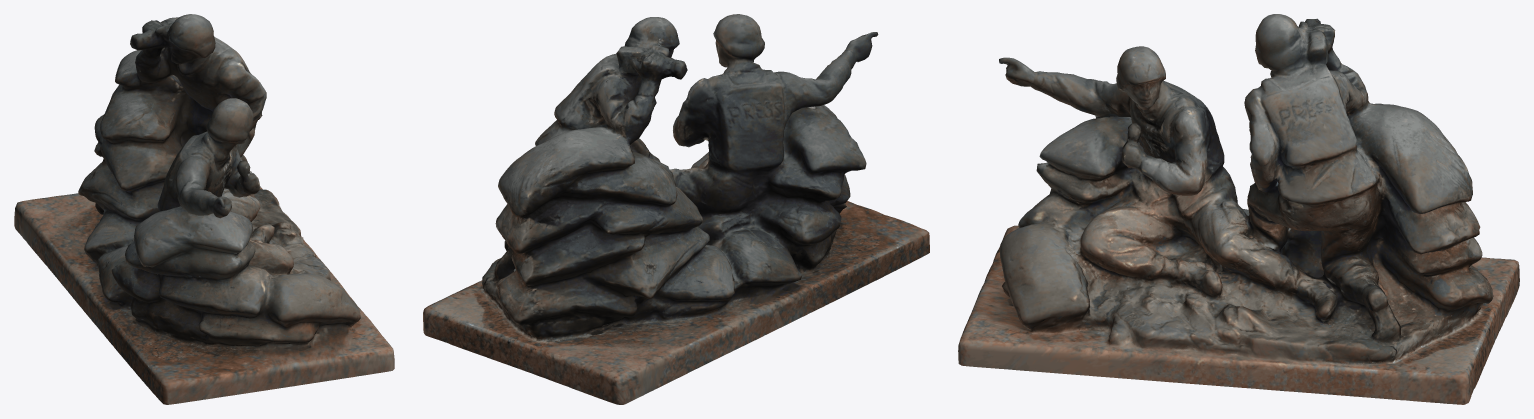
The model's file is press.glb.
The picture shows the model from 3 angles, left to right: view 1: azimuth 30°, elevation 25°; view 2: azimuth 150°, elevation 25°; view 3: azimuth 270°, elevation 25°; orthographic projection. The views are drawn at different scales.
Visible parts, largest first — view 1: PressMesh; view 2: PressMesh; view 3: PressMesh.
Part boxes in pixels (x1,y1,x2,y2): PressMesh: (14, 14, 394, 404); PressMesh: (423, 14, 929, 404); PressMesh: (958, 14, 1519, 404).
Size of the model in its own units: 0.5492 by 0.5054 by 0.8268.
Materials: 1 (1 with a texture image).
